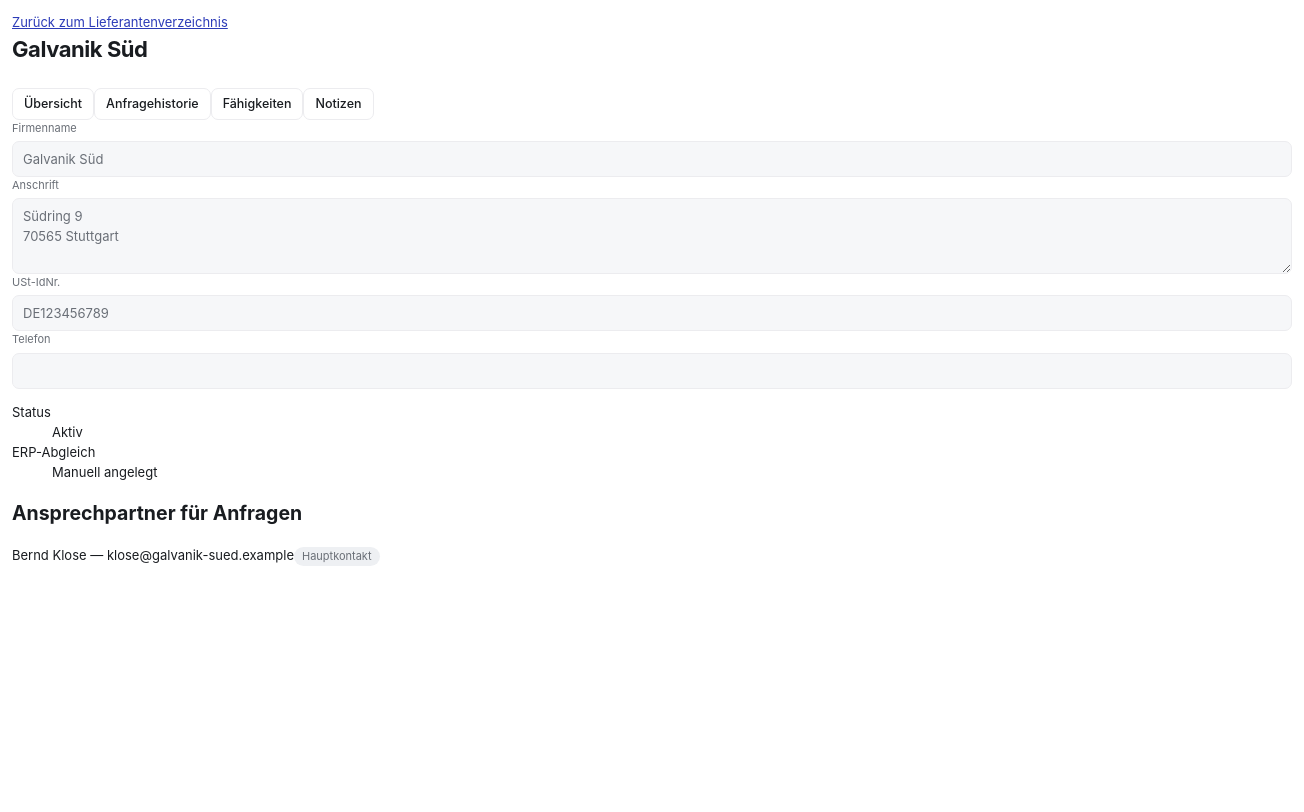
it: VendorDetailPage › labels the Notes tab as internal-only
This screenshot has width=1304, height=812.
Click the tab "Notizen".
click(339, 104)  # box [304,88,374,120]
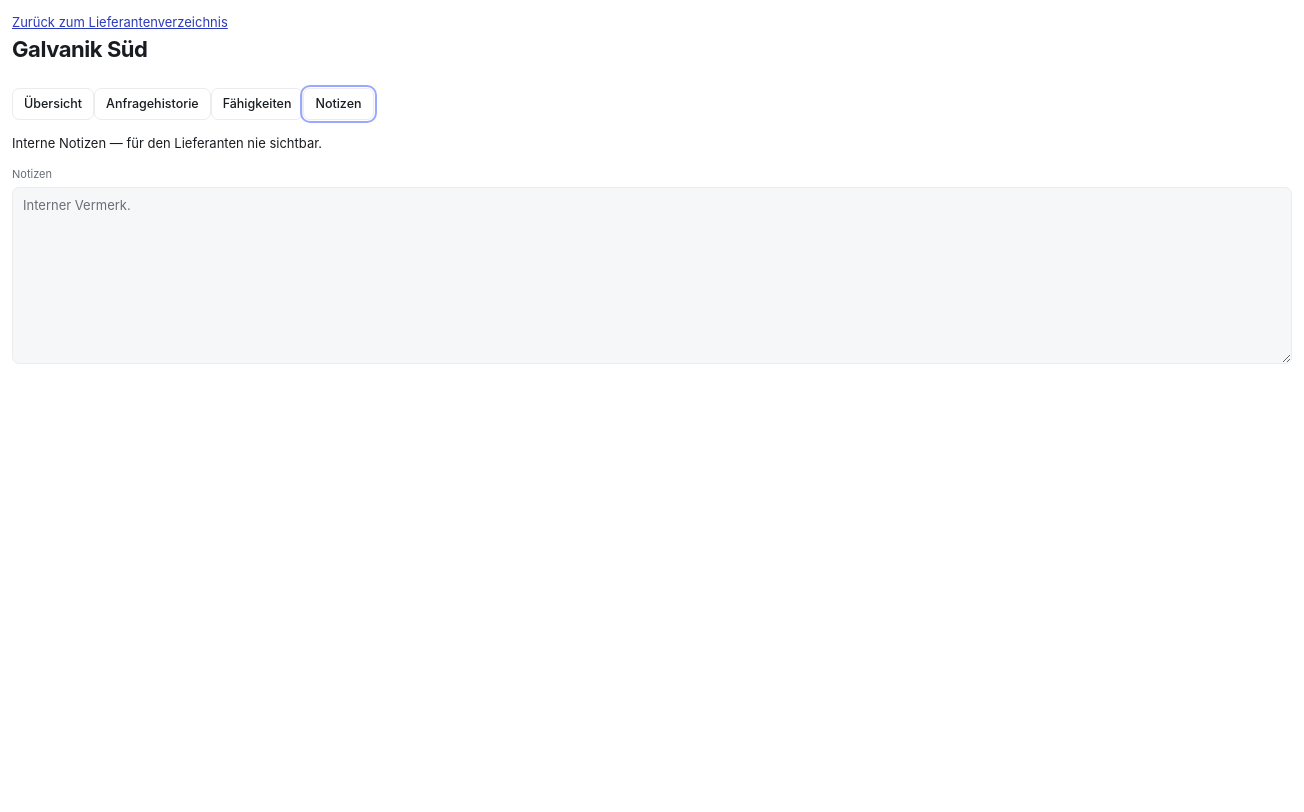
Now the text "Interne Notizen — für den Lieferanten nie sichtbar." is shown, box [12,135,322,151]
Now the text box showing "Interner Vermerk." is shown, box [12,187,1292,364]
